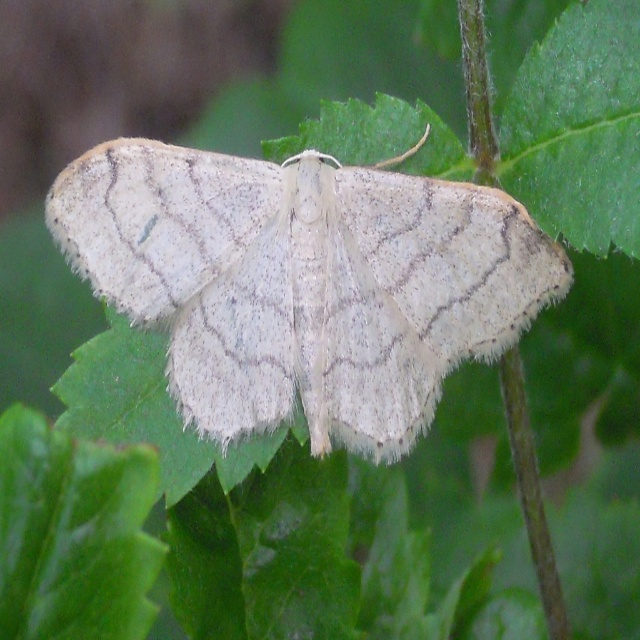Butterfly: (44, 123, 575, 469)
